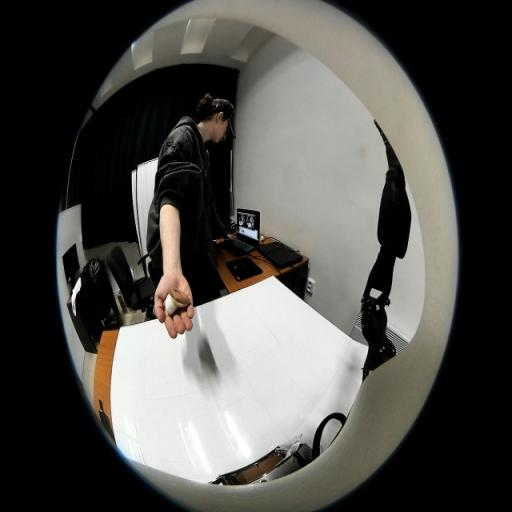Mushroom: (164, 288, 190, 315)
